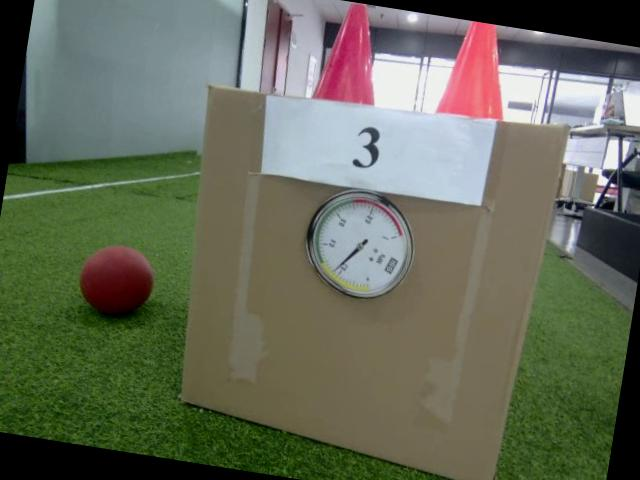3: (352, 125, 382, 170)
Dashboard: (296, 184, 421, 308)
orange_barrel: (432, 18, 520, 123)
red_ball: (75, 242, 156, 322)
red_barrel: (310, 0, 388, 107)
ssi: (382, 256, 398, 276)
